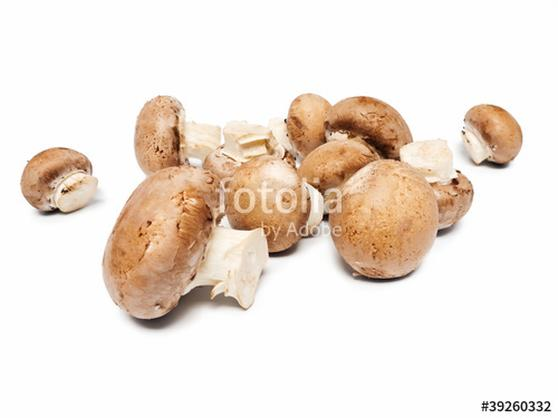champignon: (102, 172, 274, 323), (330, 157, 477, 285)
